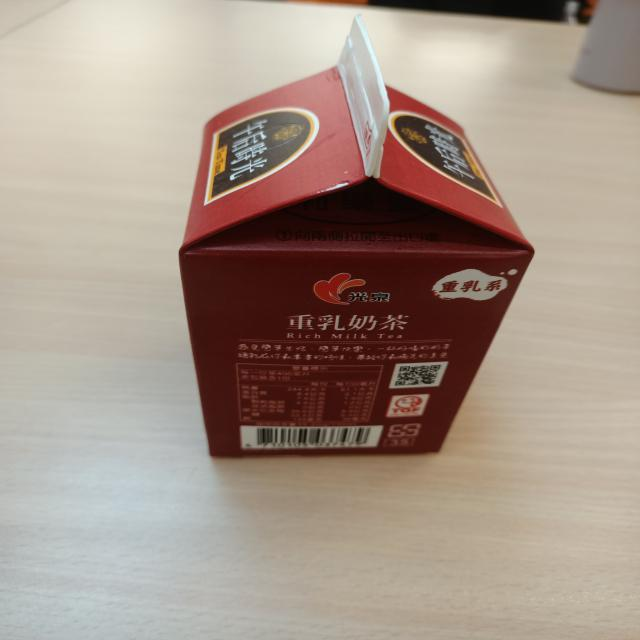Known_MilkTea: (178, 7, 550, 470)
